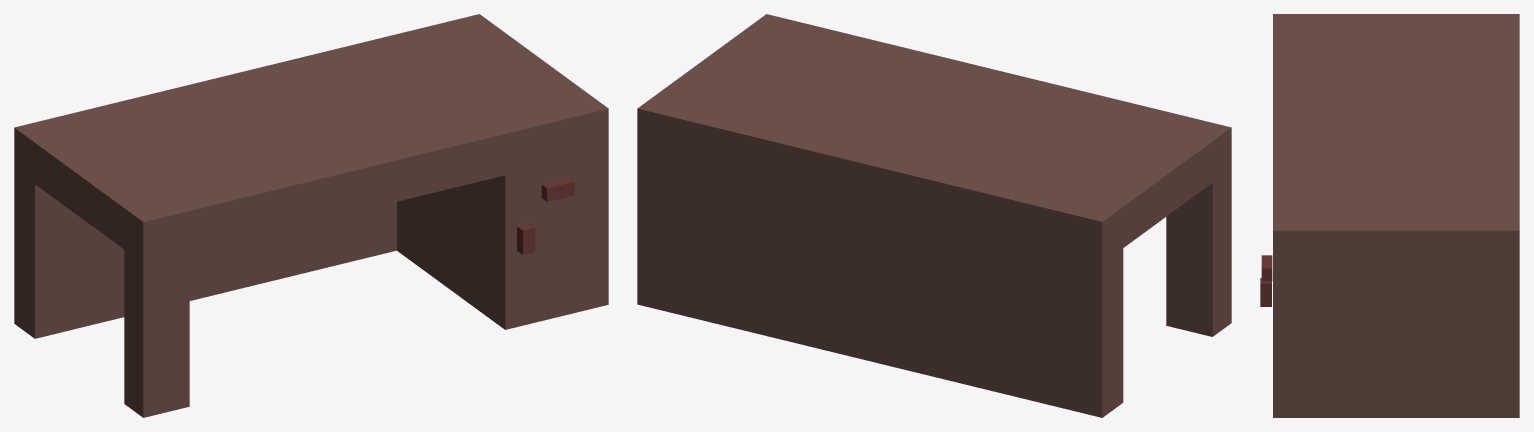
Rendered from desk.fbx.
3 renders of one model, left to right at view 1: azimuth 30°, elevation 25°; view 2: azimuth 150°, elevation 25°; view 3: azimuth 270°, elevation 25°, orthographic. The views are drawn at different scales.
Parts seen in each view (by area): view 1: Desk; view 2: Desk; view 3: Desk.
Boxes of the visible parts, <box> form: Desk: <box>14,14,608,417</box>; Desk: <box>637,14,1231,417</box>; Desk: <box>1260,14,1519,417</box>.
Bounding box in the file's own units: 416 × 167 × 210.
